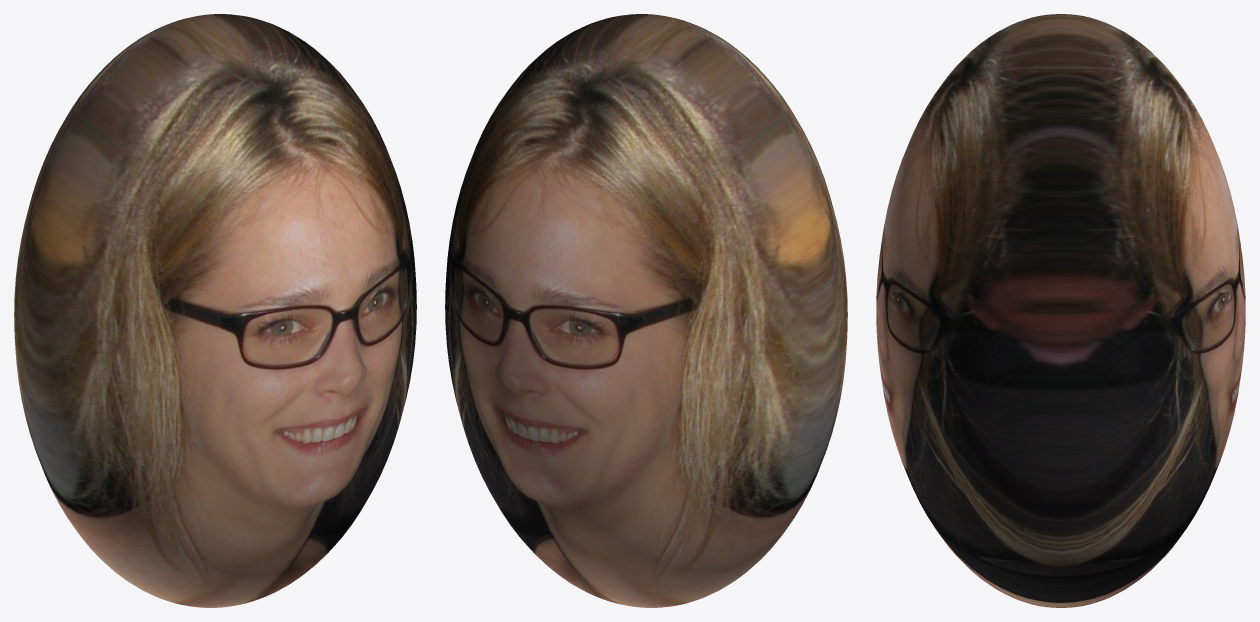
The model's file is carmen-kass.glb.
3 renders of one model, left to right at view 1: azimuth 30°, elevation 25°; view 2: azimuth 150°, elevation 25°; view 3: azimuth 270°, elevation 25°, orthographic.
Parts seen in each view (by area): view 1: head; view 2: head; view 3: head.
Boxes of the visible parts, x1=… form: head: x1=14, y1=14, x2=416, y2=607; head: x1=445, y1=14, x2=847, y2=607; head: x1=876, y1=14, x2=1245, y2=607.
Bounding box in the file's own units: 1.31 × 2 × 1.18.
1 material, 1 textured.
